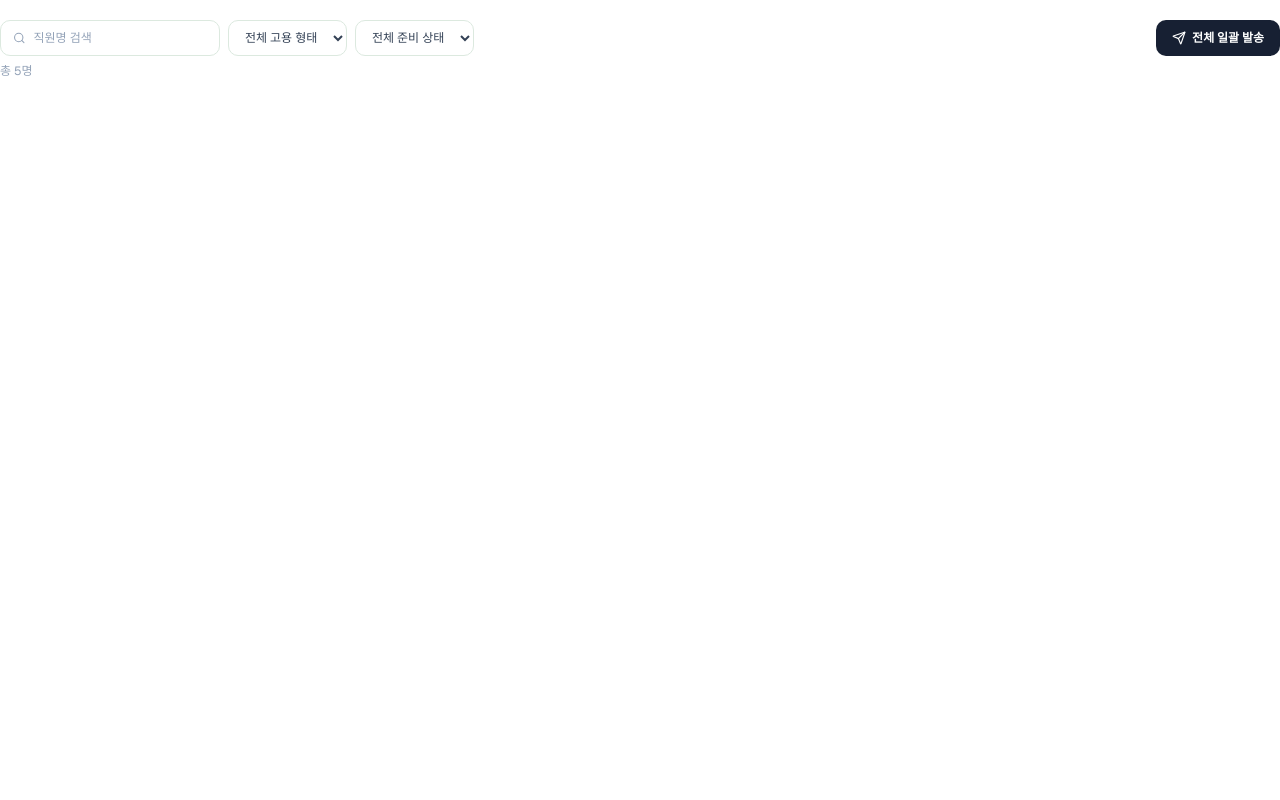
Test: PayrollListFilter › 취소를 클릭하면 발송하지 않고 모달을 닫는다
Click the button "전체 일괄 발송": (1218, 38) x1=1156 y1=20 x2=1279 y2=56
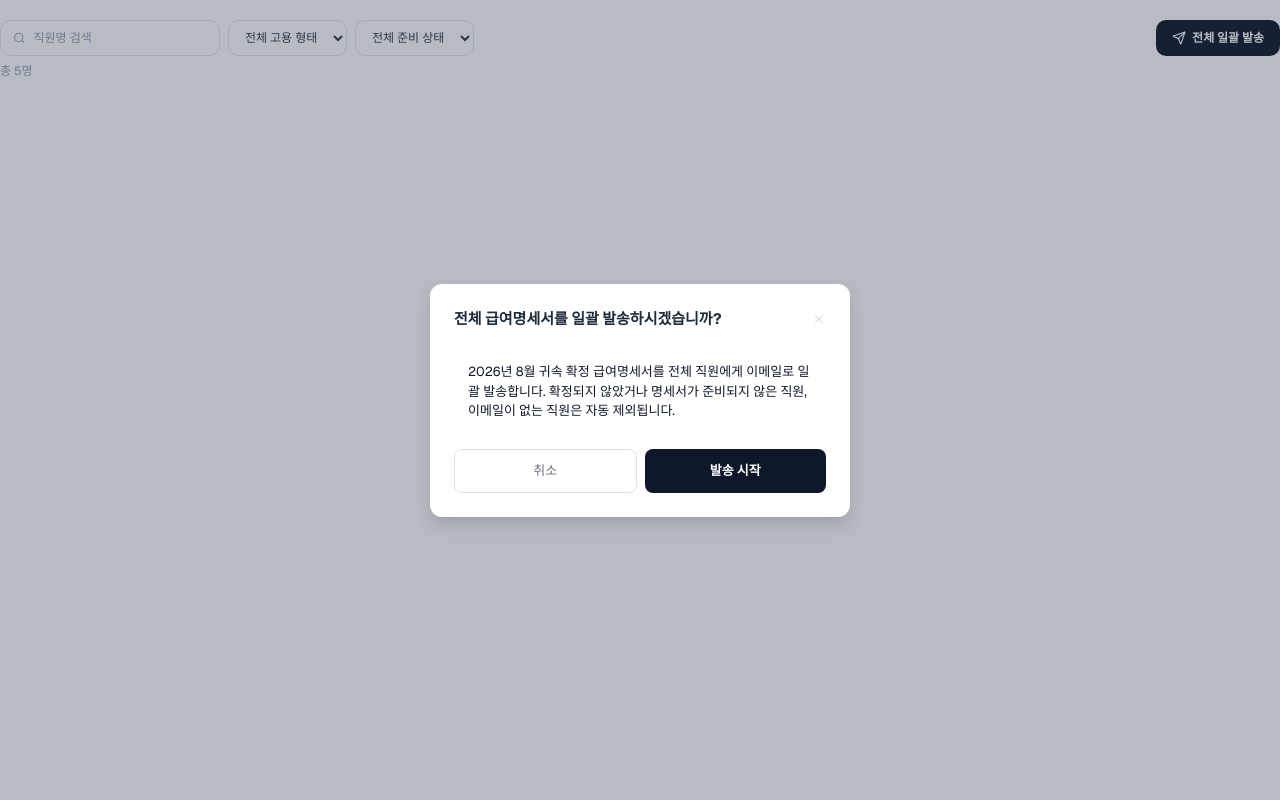
Click the button "취소": (545, 470) x1=454 y1=448 x2=636 y2=492
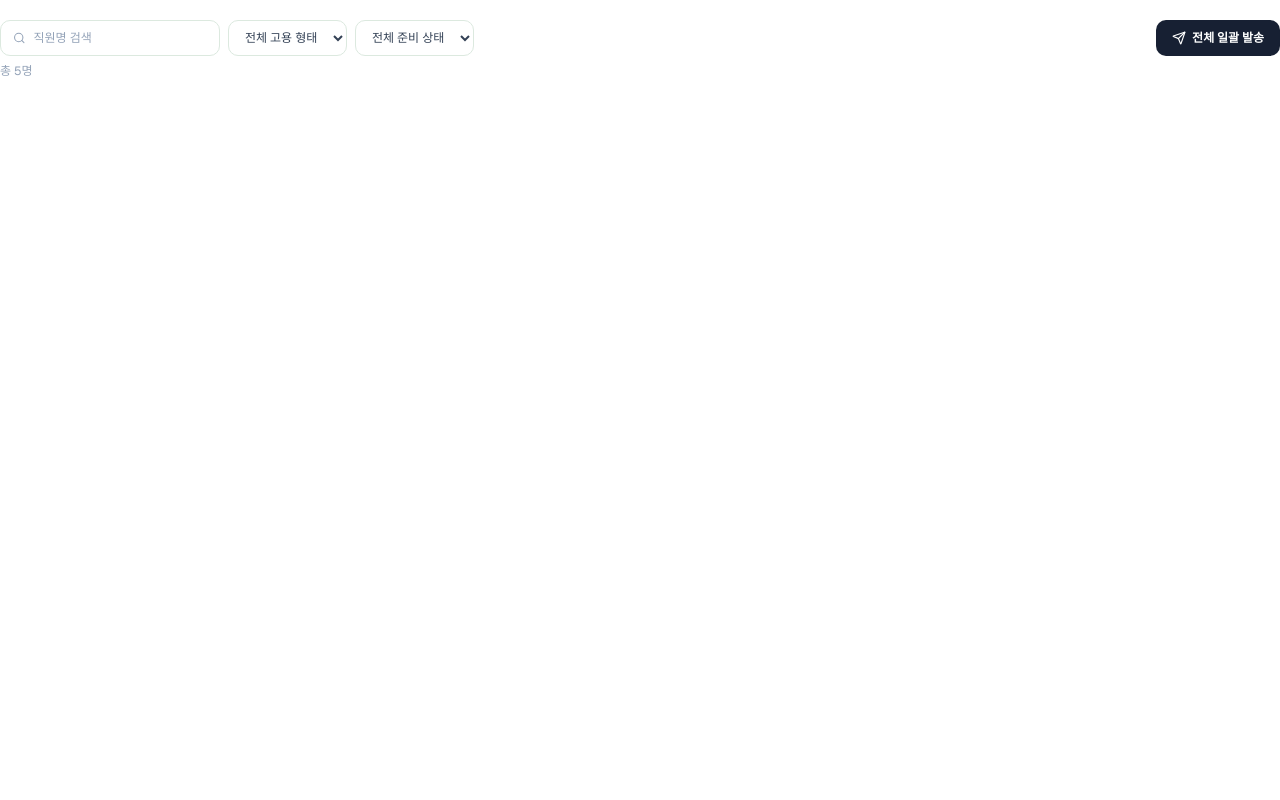
Expected: the heading "전체 급여명세서를 일괄 발송하시겠습니까?" is gone
